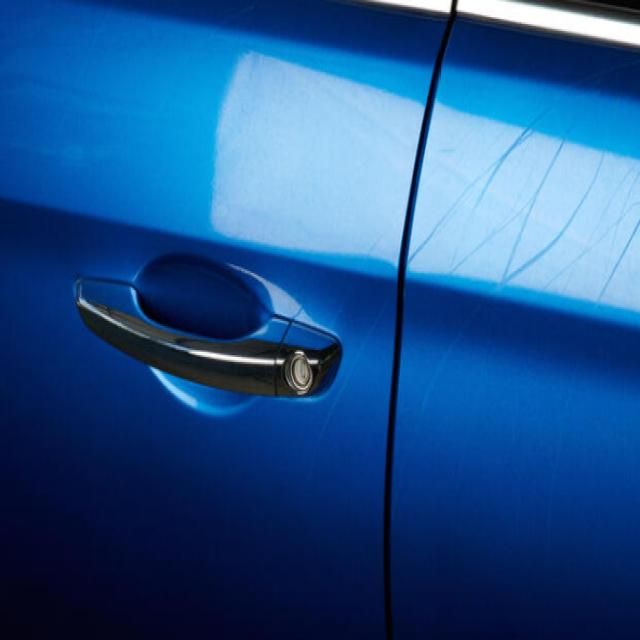scratch: (430, 116, 628, 294)
